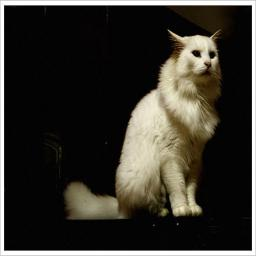catnose: (204, 61, 212, 69)
